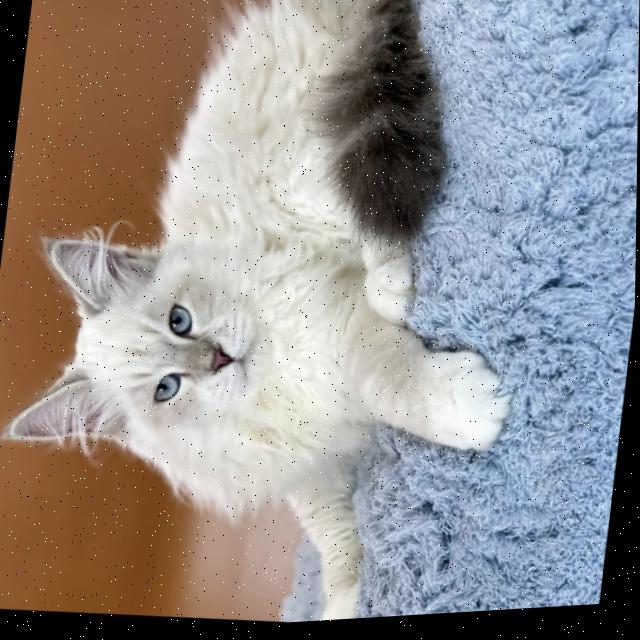Neva Masquerade: (0, 0, 563, 640)
